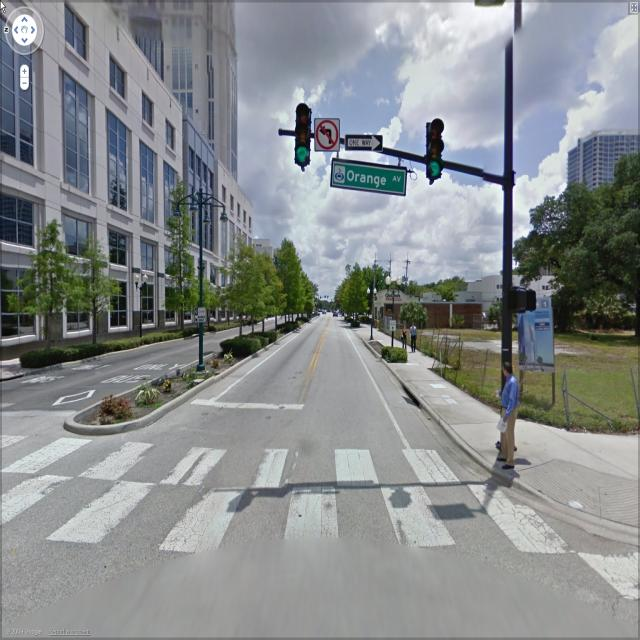b_2: (1, 2, 311, 352), (563, 119, 640, 300)
